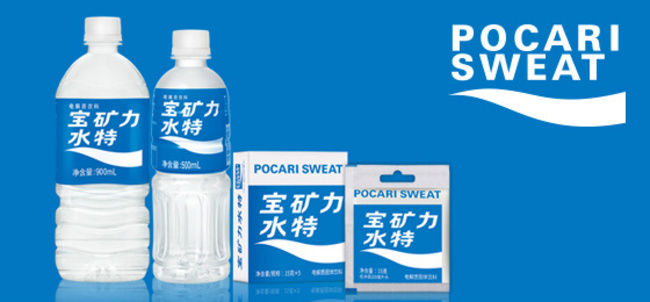POCARI SWEAT: (50, 12, 145, 284), (149, 26, 228, 283)
